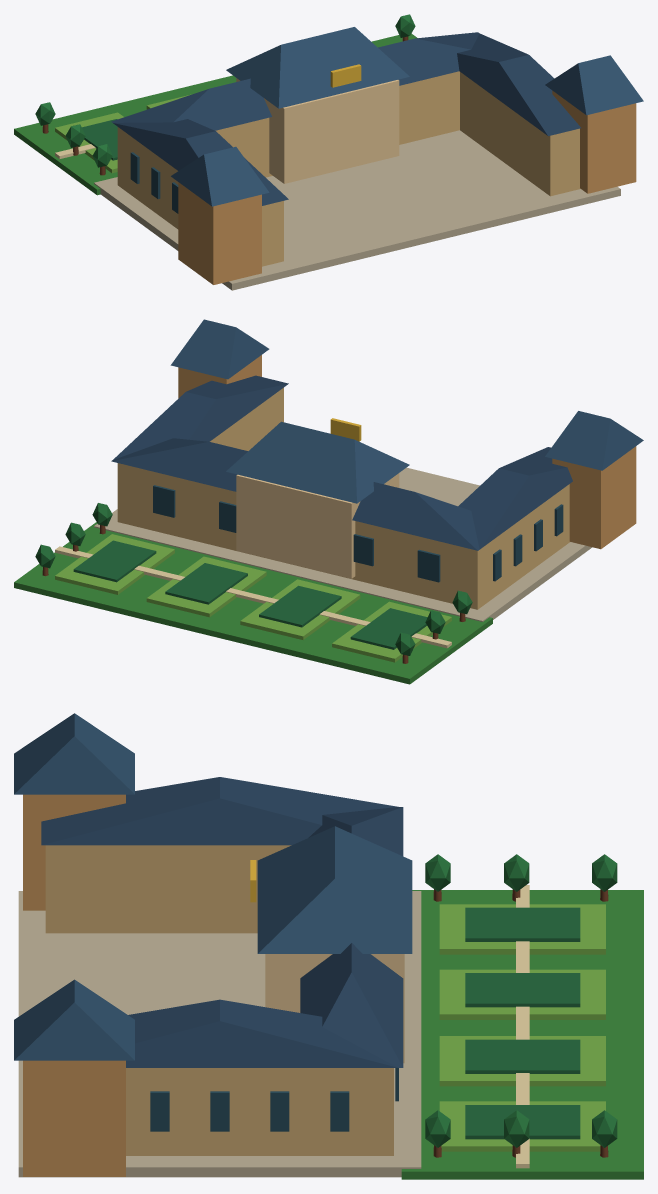
The model's file is versailles-palace.glb.
The picture shows the model from 3 angles, top to bottom: view 1: azimuth 30°, elevation 25°; view 2: azimuth 150°, elevation 25°; view 3: azimuth 270°, elevation 25°; orthographic projection. The views are drawn at different scales.
Visible parts, largest first — view 1: base_B8B49D, body_D3C09D, roof_53615C, roof_52605E, body_D6C19A, body_DDCBA8, landscape_6D8358, landscape_657F58, landscape_536E4B, landscape_8C9E6A, detail_6B6A5B, detail_C3A567; view 2: roof_53615C, body_D3C09D, landscape_6D8358, roof_52605E, body_DDCBA8, base_B8B49D, landscape_8C9E6A, landscape_536E4B, body_D6C19A, detail_6B6A5B, landscape_657F58, landscape_D3C5A6 (+1 smaller); view 3: body_D3C09D, roof_53615C, roof_52605E, landscape_6D8358, base_B8B49D, landscape_8C9E6A, body_D6C19A, landscape_536E4B, landscape_657F58, detail_6B6A5B, body_DDCBA8, landscape_D3C5A6.
Boxes of the visible parts, x1,y1,x2,y2 form: base_B8B49D: [94, 130, 620, 290]; body_D3C09D: [117, 71, 580, 266]; roof_53615C: [111, 32, 580, 205]; roof_52605E: [171, 27, 643, 206]; body_D6C19A: [178, 90, 636, 284]; body_DDCBA8: [236, 78, 399, 183]; landscape_6D8358: [14, 33, 417, 195]; landscape_657F58: [35, 14, 415, 167]; landscape_536E4B: [82, 119, 117, 160]; landscape_8C9E6A: [55, 94, 191, 173]; detail_6B6A5B: [130, 152, 178, 213]; detail_C3A567: [330, 64, 361, 87]; roof_53615C: [111, 375, 572, 550]; body_D3C09D: [117, 387, 569, 609]; landscape_6D8358: [14, 522, 492, 684]; roof_52605E: [170, 319, 643, 503]; body_DDCBA8: [236, 473, 399, 578]; base_B8B49D: [94, 467, 591, 621]; landscape_8C9E6A: [55, 534, 451, 662]; landscape_536E4B: [73, 540, 427, 649]; body_D6C19A: [178, 355, 636, 549]; detail_6B6A5B: [153, 485, 563, 582]; landscape_657F58: [35, 503, 472, 655]; landscape_D3C5A6: [55, 546, 451, 648]; body_D3C09D: [45, 845, 393, 1155]; roof_53615C: [41, 777, 403, 1067]; roof_52605E: [14, 713, 412, 1060]; landscape_6D8358: [401, 890, 643, 1179]; base_B8B49D: [18, 891, 421, 1177]; landscape_8C9E6A: [439, 904, 605, 1151]; body_D6C19A: [23, 794, 125, 1176]; landscape_536E4B: [465, 907, 580, 1139]; landscape_657F58: [425, 854, 617, 1147]; detail_6B6A5B: [150, 1068, 398, 1131]; body_DDCBA8: [265, 954, 404, 1063]; landscape_D3C5A6: [516, 885, 529, 1168].
Bounding box in the file's own units: 1 × 0.2833 × 0.8667.
